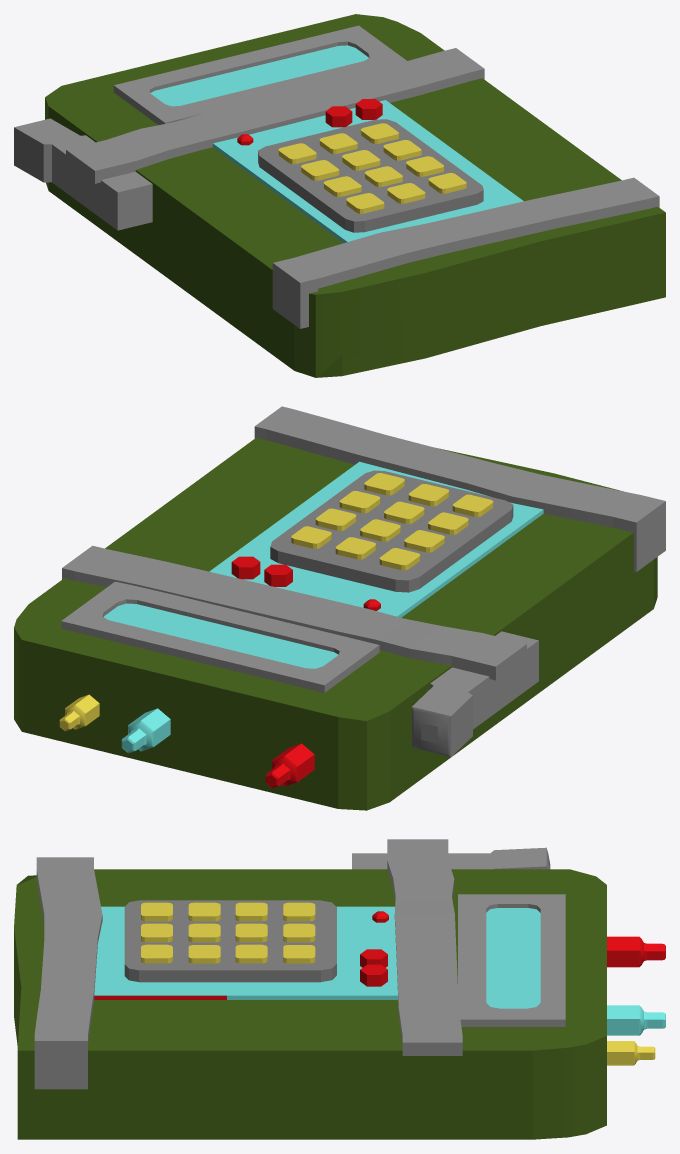
The model's file is bomb4-food.fbx.
3 views of the same model, one above another, from view 1: azimuth 30°, elevation 25°; view 2: azimuth 150°, elevation 25°; view 3: azimuth 270°, elevation 25° (orthographic). The views are drawn at different scales.
Visible parts, largest first — view 1: bomb4-food; view 2: bomb4-food; view 3: bomb4-food.
Part boxes in pixels (x1,y1,x2,y2): bomb4-food: (14,14,665,377); bomb4-food: (14,406,665,810); bomb4-food: (14,839,665,1139).
Size of the model in its own units: 0.3104 by 0.0786 by 0.4154.
